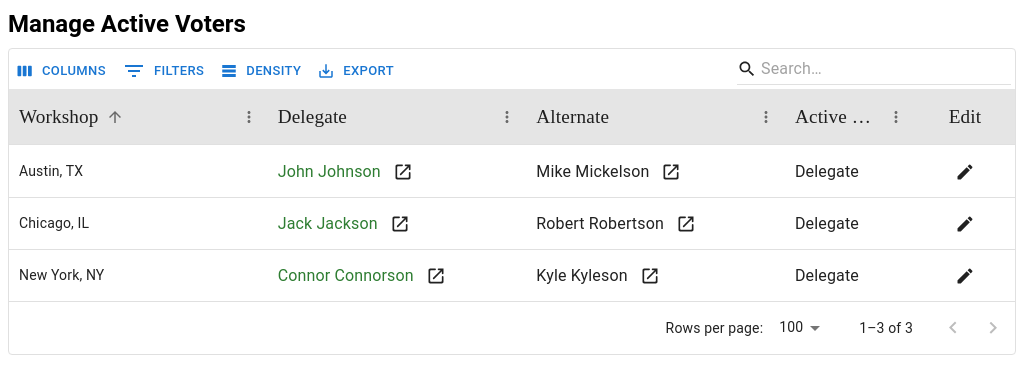
Successfully alerts when workshop is not found
Click the menu item with test id "edit-active-voter-1": (965, 172) [950, 156, 980, 186]
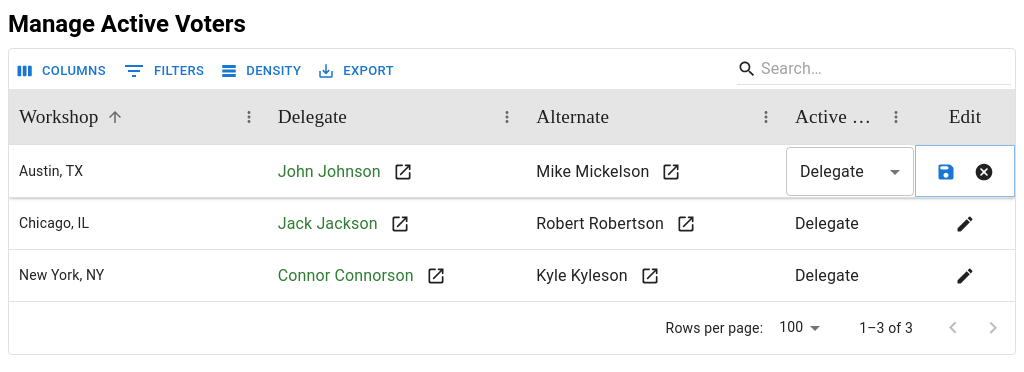
Click the menu item with test id "save-active-voter-1": (946, 172) [931, 156, 961, 186]
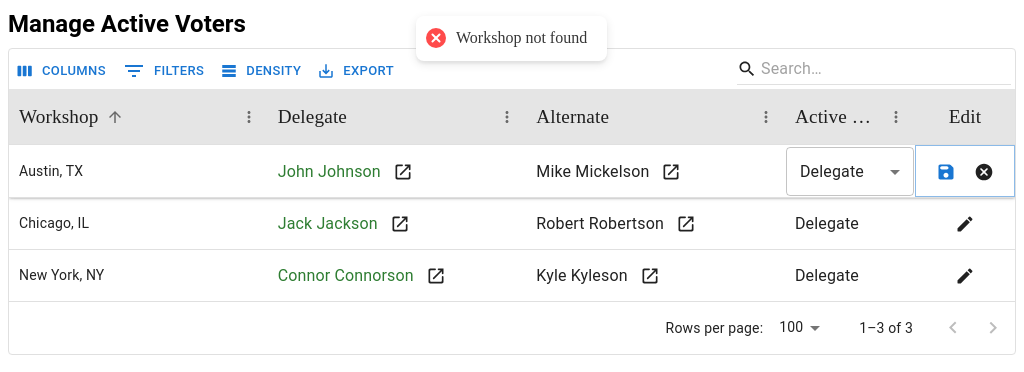
Expected: the text "Workshop not found" is shown, [456, 28, 588, 49]
